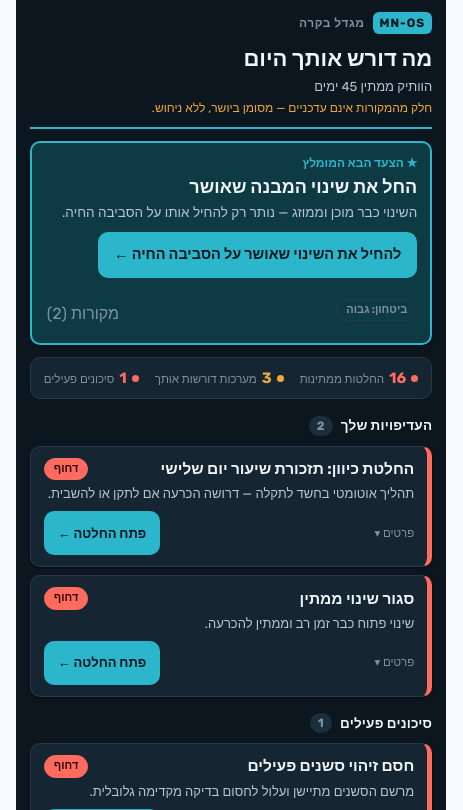
Scenario: DecisionInboxView › hides evidence by default and reveals it on disclosure
The image size is (463, 810).
Click the button with test id "evidence-toggle".
click(83, 314)  # box 45,296 -> 121,332
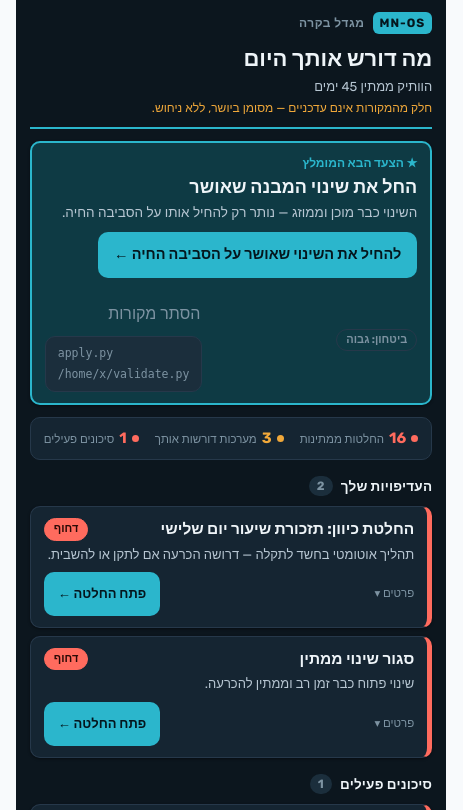
Check: the list with test id "evidence-list" is shown, box 45,336 -> 202,392
